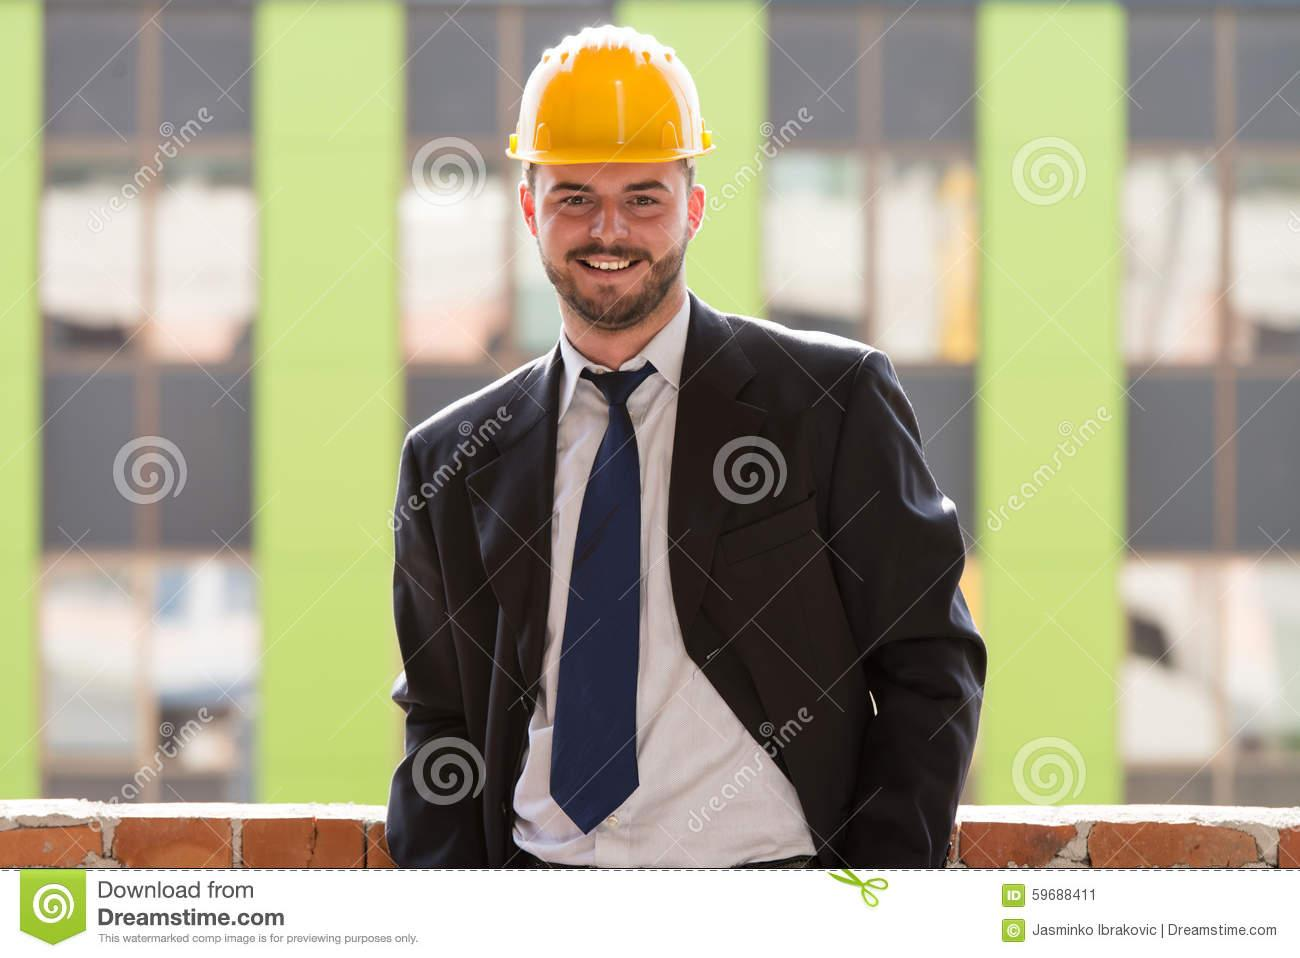helmet: (513, 22, 716, 167)
